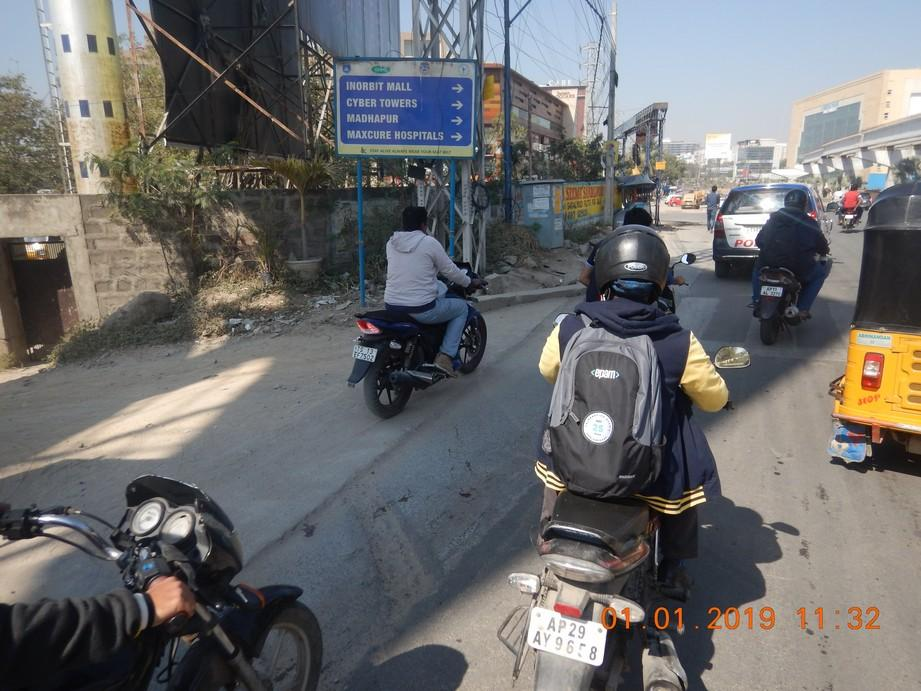plate: (530, 608, 607, 669), (351, 344, 378, 364), (758, 284, 784, 297)
